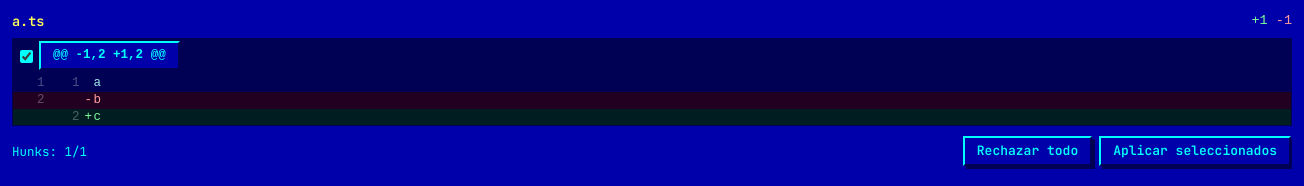
Scenario: DiffViewer › plegar un hunk oculta sus líneas
The image size is (1304, 186).
Click the button "@@ -1,2 +1,2 @@".
click(109, 56)  # box [39,41,180,70]
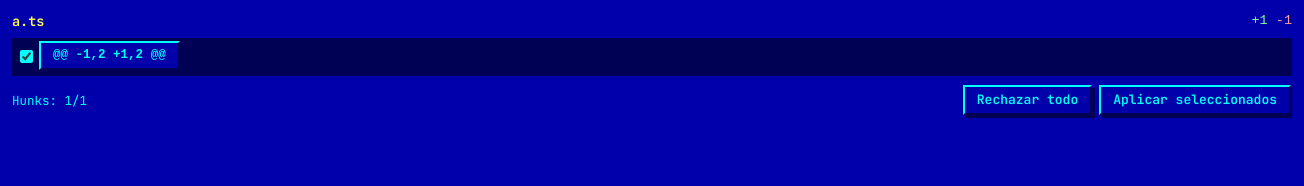
Now the text "b" is gone
